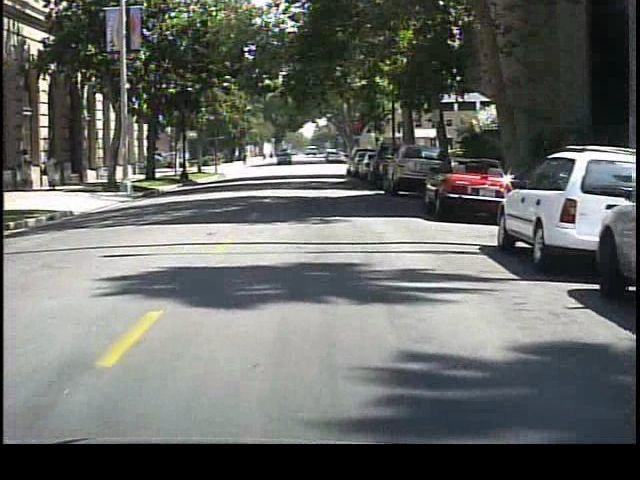person: (39, 152, 65, 195), (19, 148, 39, 193)
